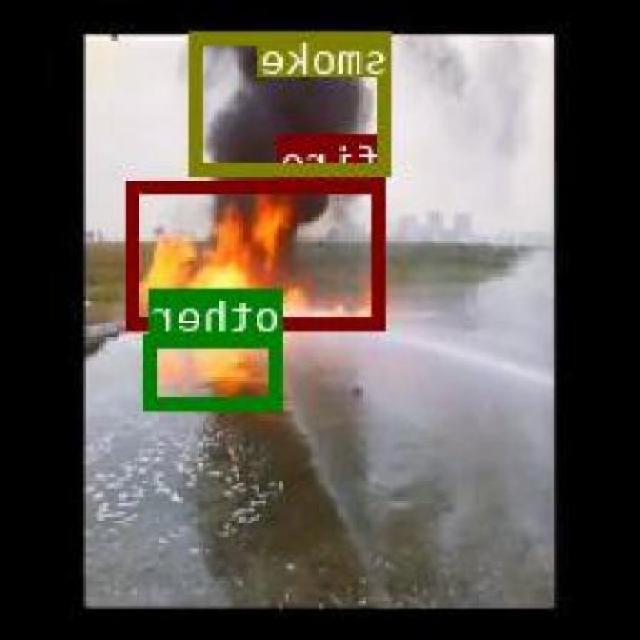Fire: (128, 178, 387, 328)
Smoke: (192, 29, 394, 174)
